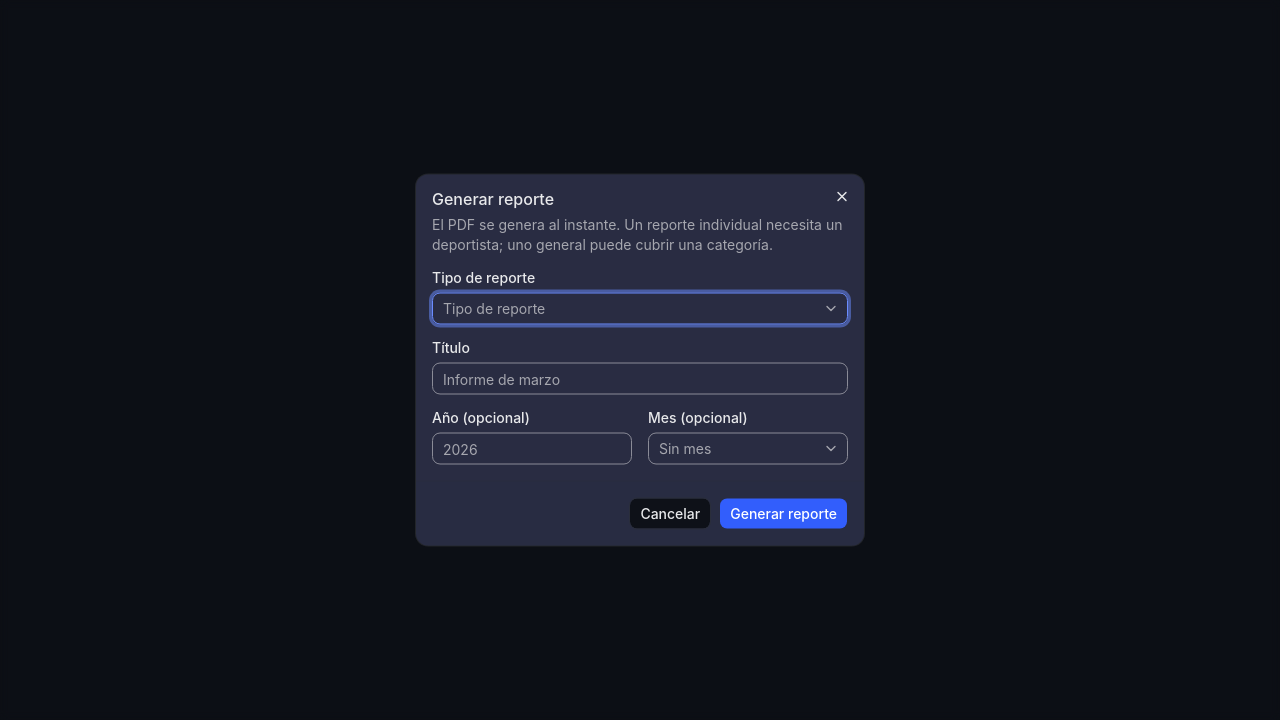
Scenario: ReportFormDialog — generación síncrona (C5, C9, C11) › 400 residual: mensaje seguro del diccionario del contrato, nunca texto crudo
Click the dropdown with test id "report-type-select": {"x": 494, "y": 308} x1=432 y1=292 x2=848 y2=324
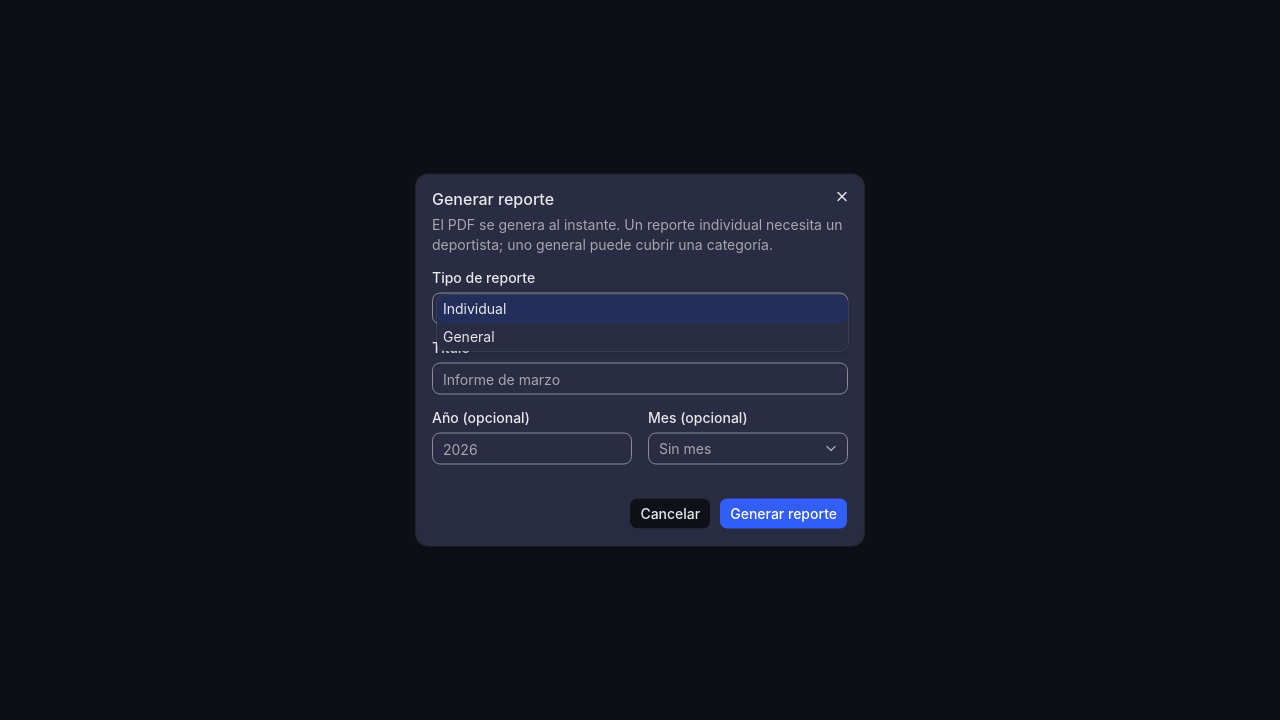
Click the option "General": {"x": 469, "y": 336} x1=443 y1=328 x2=495 y2=344
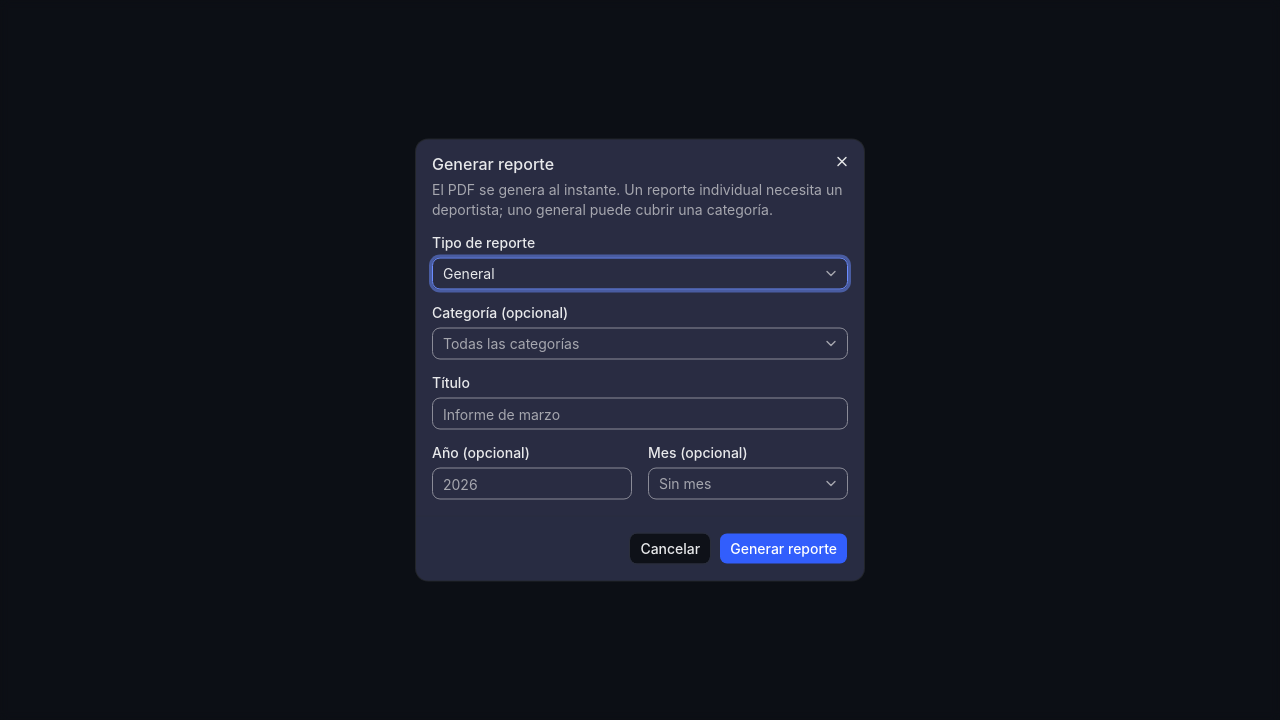
In the field with test id "report-title-input": {"x": 640, "y": 414} x1=432 y1=398 x2=848 y2=430, type "Equipo"
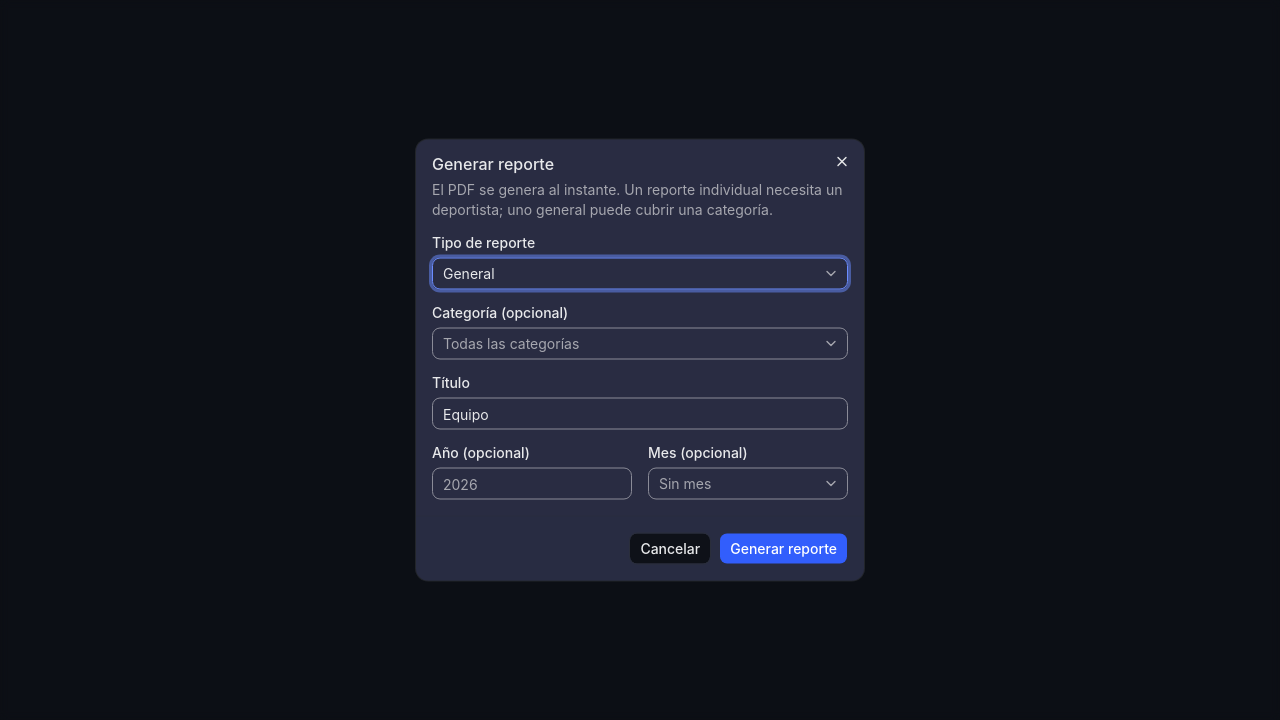
Click the button with test id "report-submit": {"x": 784, "y": 548} x1=719 y1=532 x2=848 y2=564
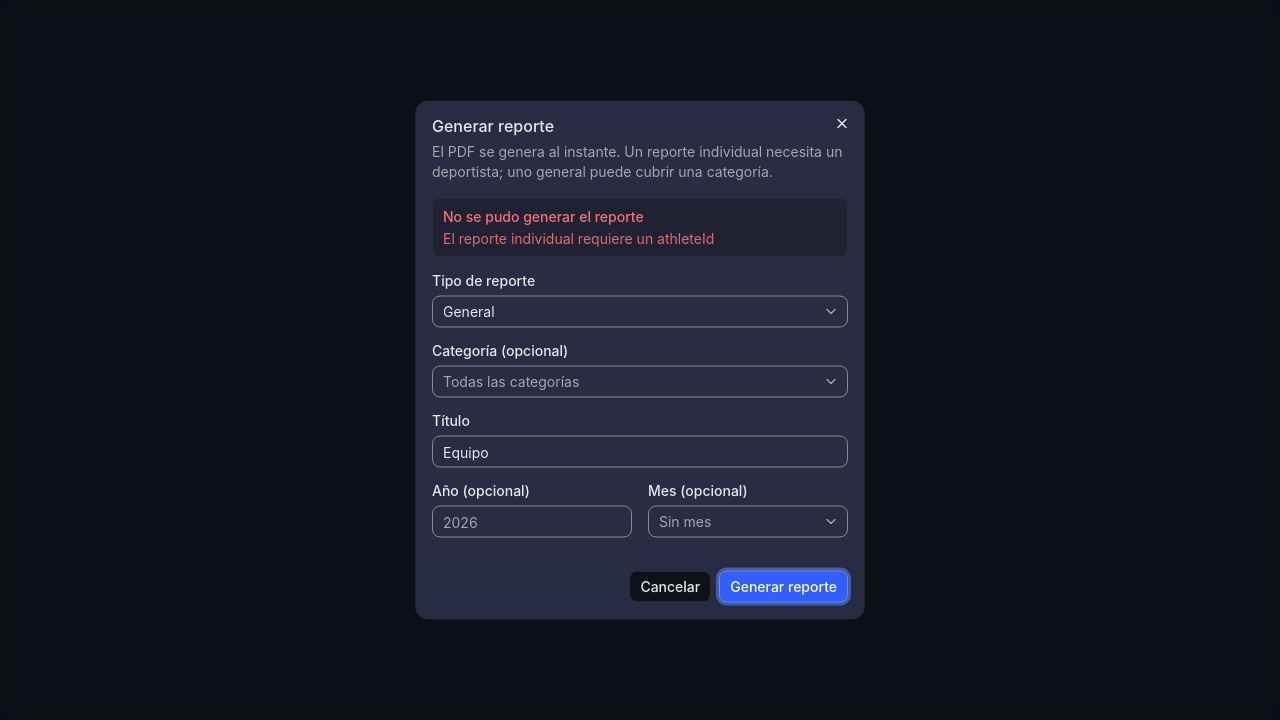
Check: the dialog with test id "report-form" is shown, box x1=416 y1=102 x2=864 y2=618
Check: the text "El reporte individual requiere un athleteId" is shown, box x1=443 y1=230 x2=714 y2=246
